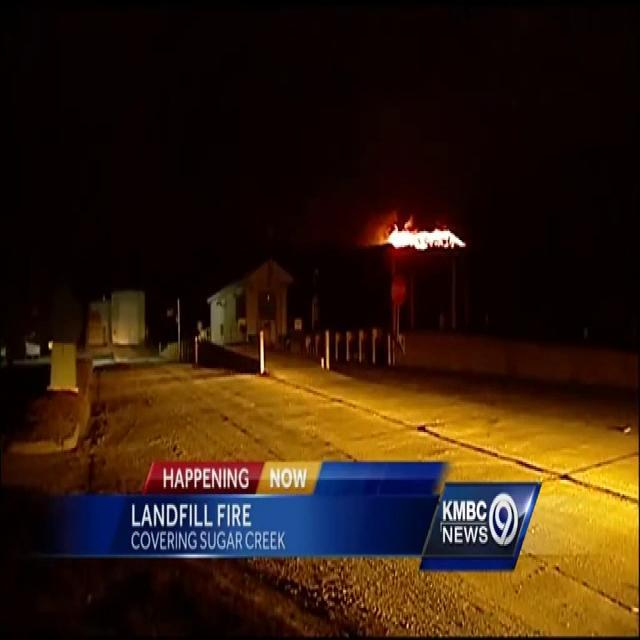Fire: (372, 212, 462, 256)
